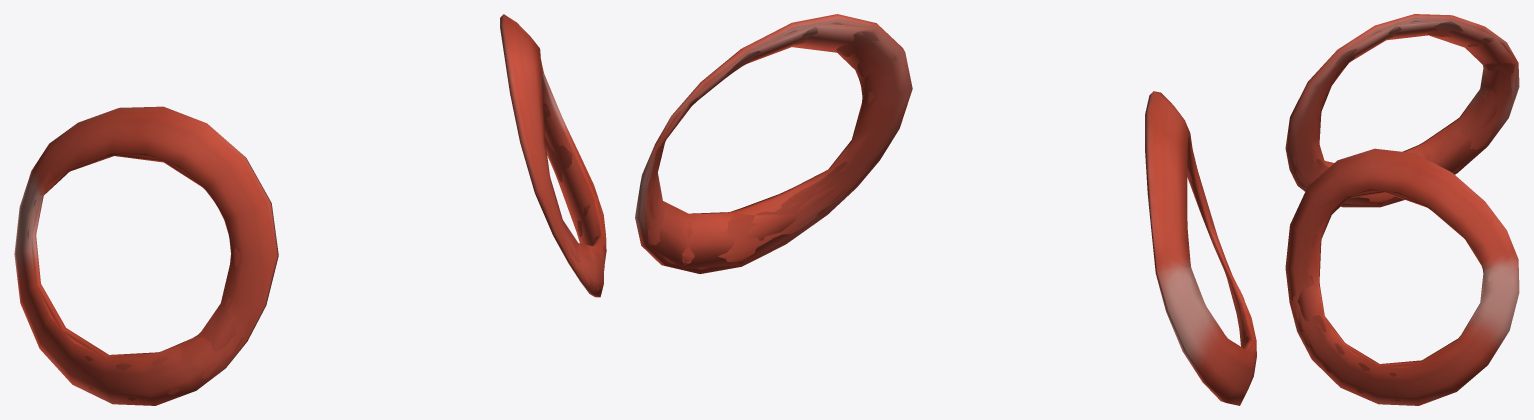
The model's file is Orbicularis Oculi.fbx.
The picture shows the model from 3 angles, left to right: view 1: azimuth 30°, elevation 25°; view 2: azimuth 150°, elevation 25°; view 3: azimuth 270°, elevation 25°; orthographic projection. The views are drawn at different scales.
Visible parts, largest first — view 1: Orbicularis Oculi, Orbicularis Oculi low, Orbicularis Oculi high; view 2: Orbicularis Oculi, Orbicularis Oculi low, Orbicularis Oculi high; view 3: Orbicularis Oculi, Orbicularis Oculi low, Orbicularis Oculi high.
Part boxes in pixels (bbox=[...]): Orbicularis Oculi: bbox=[14, 14, 606, 405]; Orbicularis Oculi low: bbox=[31, 60, 605, 357]; Orbicularis Oculi high: bbox=[18, 71, 604, 400]; Orbicularis Oculi: bbox=[635, 14, 1256, 405]; Orbicularis Oculi low: bbox=[643, 24, 1255, 350]; Orbicularis Oculi high: bbox=[644, 22, 1255, 377]; Orbicularis Oculi: bbox=[1285, 14, 1519, 405]; Orbicularis Oculi low: bbox=[1291, 20, 1517, 366]; Orbicularis Oculi high: bbox=[1293, 20, 1515, 401].
Bounding box in the file's own units: 11.73 × 5.4 × 5.17.
Materials: 1 (1 with a texture image).
